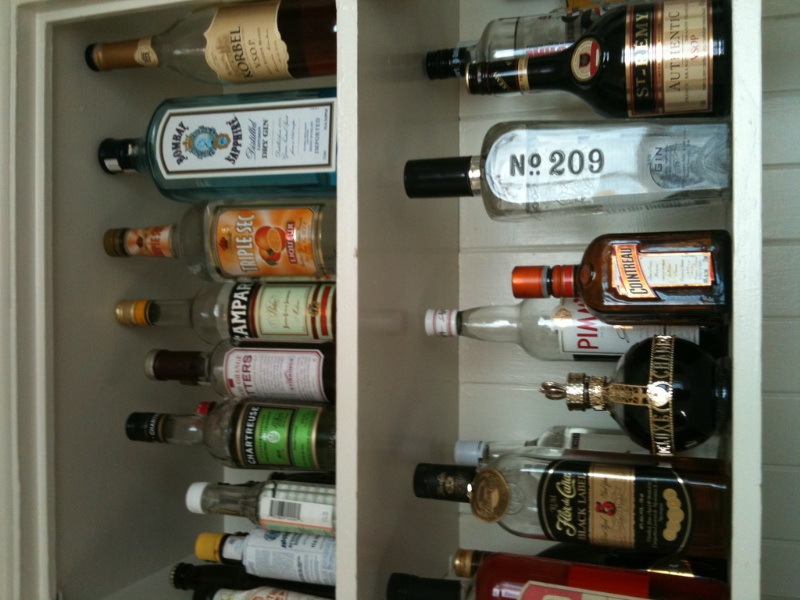wine: (382, 1, 742, 600), (79, 5, 341, 600)
